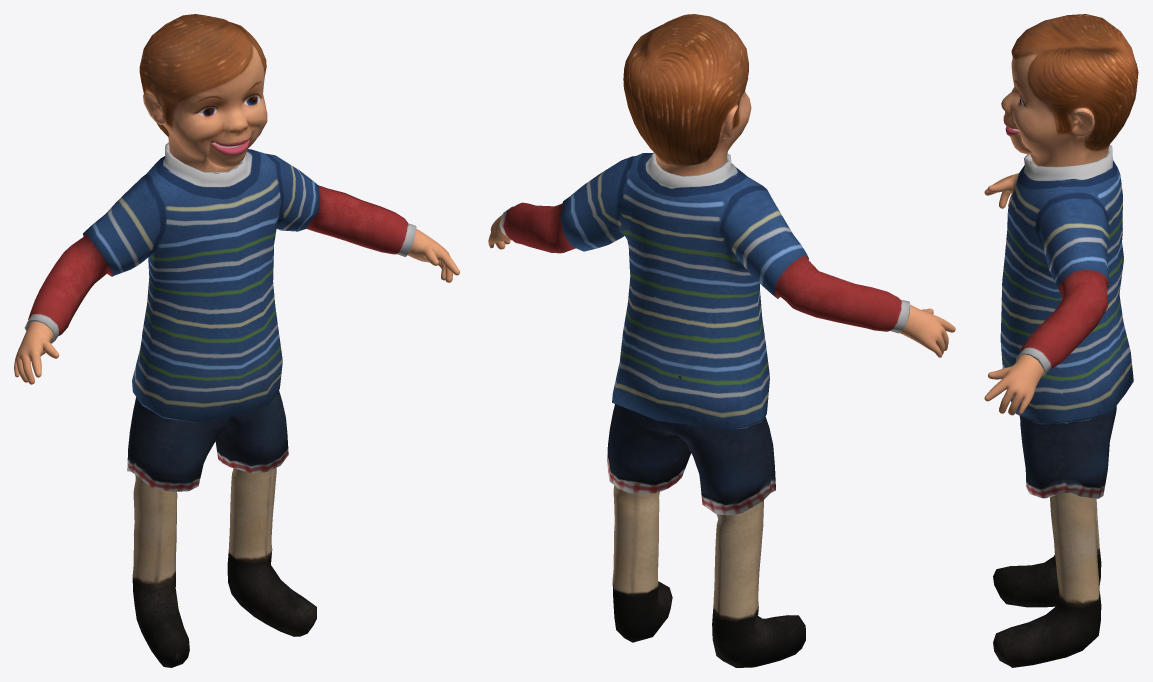
File: doll_textured.glb
3 renders of one model, left to right at view 1: azimuth 30°, elevation 25°; view 2: azimuth 150°, elevation 25°; view 3: azimuth 270°, elevation 25°, orthographic. The views are drawn at different scales.
Parts seen in each view (by area): view 1: Object_2, Object_4, Object_3; view 2: Object_2, Object_4, Object_3; view 3: Object_2, Object_4, Object_3.
Boxes of the visible parts, <box> form: Object_2: <box>24,142,416,667</box>; Object_4: <box>139,14,267,172</box>; Object_3: <box>14,229,459,384</box>; Object_2: <box>499,152,909,667</box>; Object_4: <box>623,14,751,176</box>; Object_3: <box>488,214,955,357</box>; Object_2: <box>993,145,1133,667</box>; Object_4: <box>1001,14,1138,166</box>; Object_3: <box>984,173,1044,415</box>.
Size of the model in its own units: 3.11 by 4.18 by 0.9528.
Materials: 3 (3 with a texture image).
